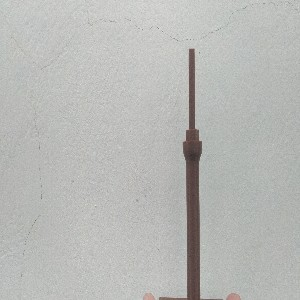obeng: (182, 47, 203, 300)
